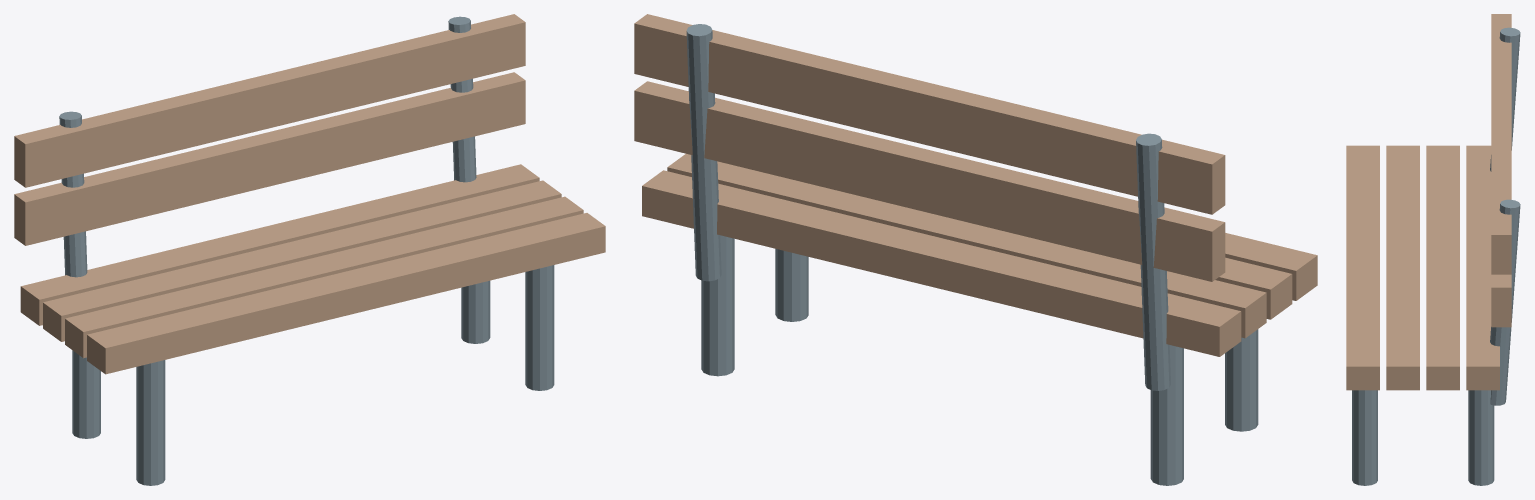
The model's file is park_bench.glb.
3 renders of one model, left to right at view 1: azimuth 30°, elevation 25°; view 2: azimuth 150°, elevation 25°; view 3: azimuth 270°, elevation 25°, orthographic. The views are drawn at different scales.
Parts seen in each view (by area): view 1: park_bench_009, park_bench_008, park_bench_000, park_bench_001, park_bench_002, park_bench_003, park_bench_004, park_bench_006, park_bench_005, park_bench_007, park_bench_010, park_bench_011; view 2: park_bench_008, park_bench_009, park_bench_003, park_bench_002, park_bench_011, park_bench_010, park_bench_007, park_bench_005, park_bench_004, park_bench_000, park_bench_006, park_bench_001; view 3: park_bench_000, park_bench_001, park_bench_002, park_bench_003, park_bench_009, park_bench_007, park_bench_006, park_bench_011, park_bench_008, park_bench_010.
Part boxes in pixels (box(x1,y1,x2,y2)): park_bench_009: box(14, 14, 525, 187); park_bench_008: box(14, 72, 525, 245); park_bench_000: box(87, 213, 605, 374); park_bench_001: box(65, 196, 583, 358); park_bench_002: box(43, 180, 561, 341); park_bench_003: box(20, 164, 539, 325); park_bench_004: box(136, 360, 165, 485); park_bench_006: box(525, 265, 554, 390); park_bench_005: box(72, 350, 100, 438); park_bench_007: box(461, 280, 490, 343); park_bench_010: box(59, 111, 87, 277); park_bench_011: box(448, 16, 476, 182); park_bench_008: box(634, 81, 1225, 281); park_bench_009: box(634, 14, 1225, 214); park_bench_003: box(642, 170, 1241, 356); park_bench_002: box(667, 153, 1266, 338); park_bench_011: box(686, 24, 721, 281); park_bench_010: box(1136, 133, 1170, 390); park_bench_007: box(701, 235, 734, 376); park_bench_005: box(1150, 345, 1183, 485); park_bench_004: box(1225, 329, 1258, 431); park_bench_000: box(1225, 233, 1317, 300); park_bench_006: box(775, 248, 808, 321); park_bench_001: box(1215, 257, 1292, 319); park_bench_000: box(1346, 145, 1379, 390); park_bench_001: box(1386, 145, 1419, 390); park_bench_002: box(1426, 145, 1459, 390); park_bench_003: box(1466, 145, 1499, 390); park_bench_009: box(1491, 14, 1511, 274); park_bench_007: box(1468, 390, 1494, 485); park_bench_006: box(1352, 390, 1377, 485); park_bench_011: box(1490, 199, 1520, 405); park_bench_008: box(1491, 274, 1511, 327); park_bench_010: box(1490, 27, 1520, 171).
Size of the model in its own units: 1.8 by 1.05 by 0.5989.
